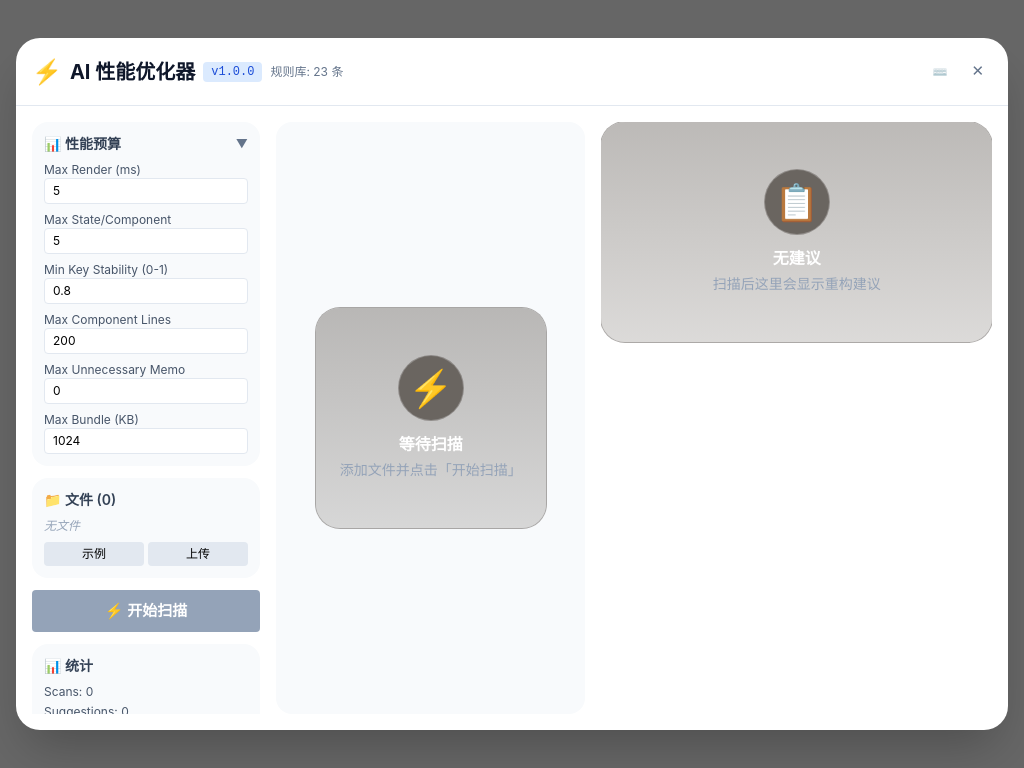
Test: PerfOptimizerPanel › 执行扫描并展示评分卡
This screenshot has width=1024, height=768.
Step 1. Click the button "示例" → (94, 554), box [44,542,144,566]
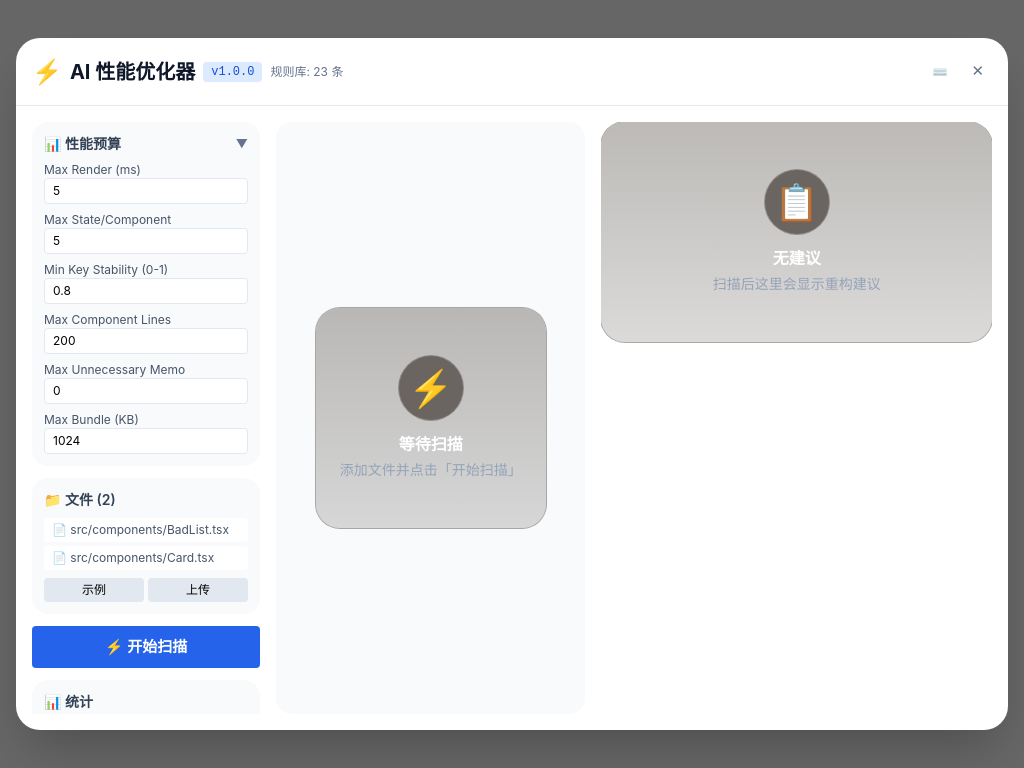
Step 2. Click the button with test id "run-scan-btn" → (146, 647), box [32,626,260,668]
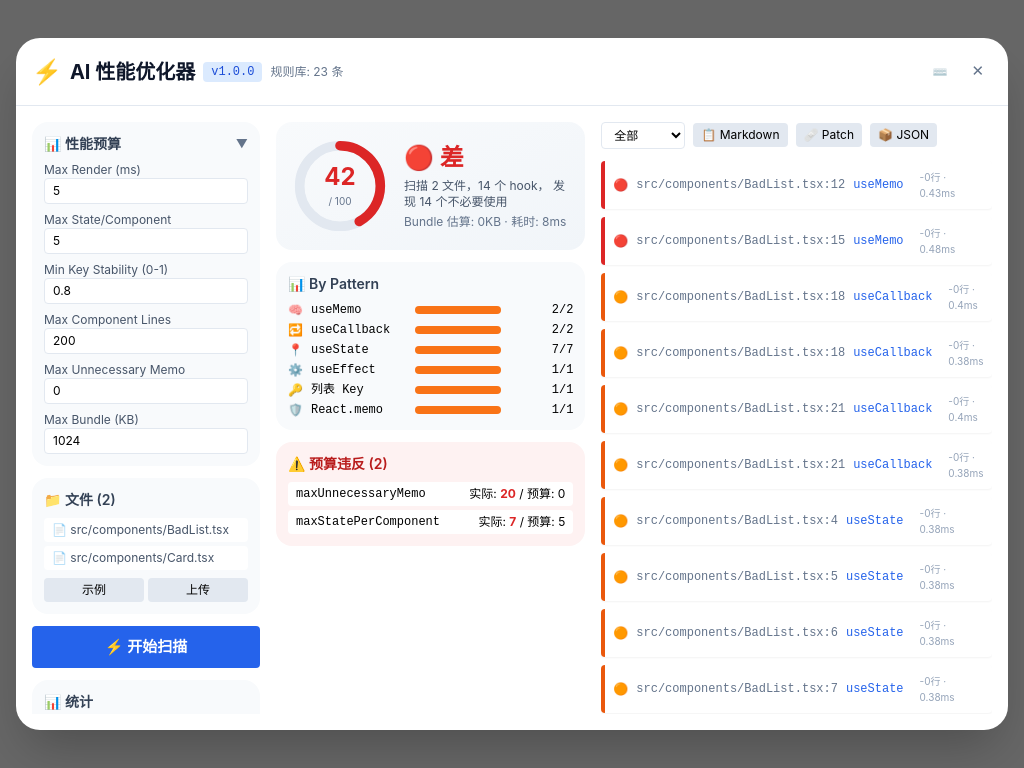
Expected: the element with test id "score-card" is shown, [276,122,585,250]
